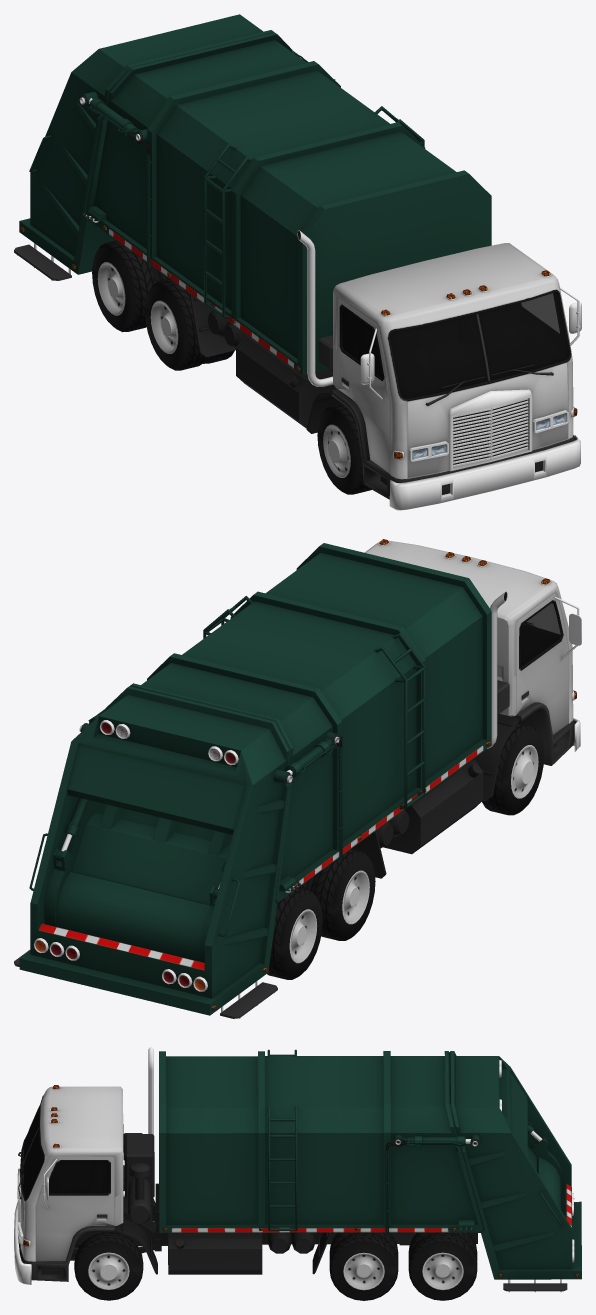
File: veicolo_camion.glb
The picture shows the model from 3 angles, top to bottom: view 1: azimuth 30°, elevation 25°; view 2: azimuth 150°, elevation 25°; view 3: azimuth 270°, elevation 25°; orthographic projection. The views are drawn at different scales.
Parts seen in each view (by area): view 1: sb_modello; view 2: sb_modello; view 3: sb_modello.
Part boxes in pixels (bbox=[...]): sb_modello: bbox=[14, 14, 581, 510]; sb_modello: bbox=[14, 539, 581, 1018]; sb_modello: bbox=[14, 1047, 581, 1300].
Size of the model in its own units: 2.62 by 2.83 by 7.66.
Materials: 3 (3 with a texture image).
